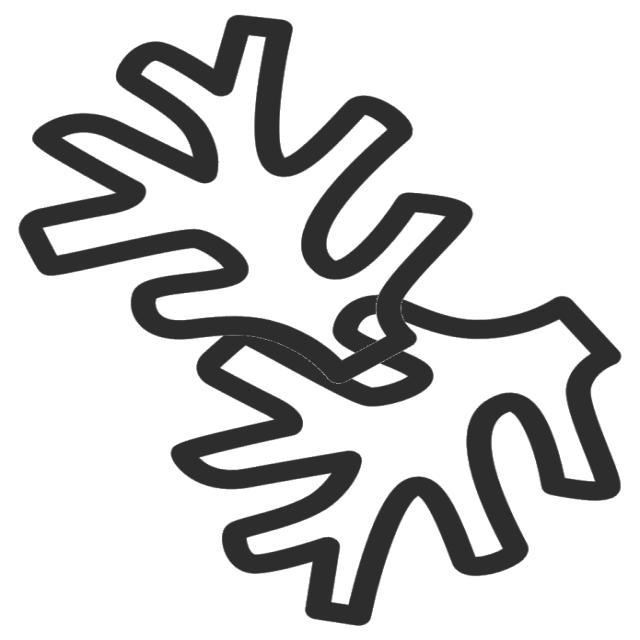coral: (10, 6, 489, 397), (154, 285, 634, 632)
